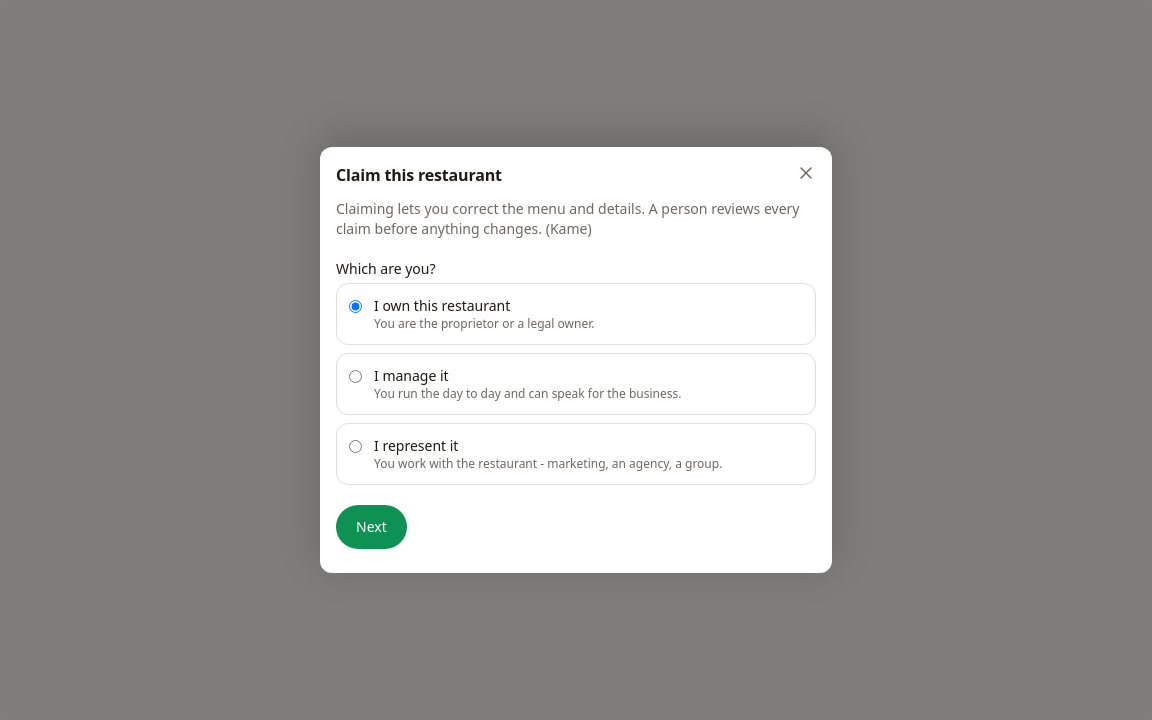
Scenario: what it asks for › asks for nothing the method does not collect
Expected: the text "Which are you?" is shown, [336,259,436,279]
Click the button "Next".
click(371, 527)  # box [336,505,407,549]
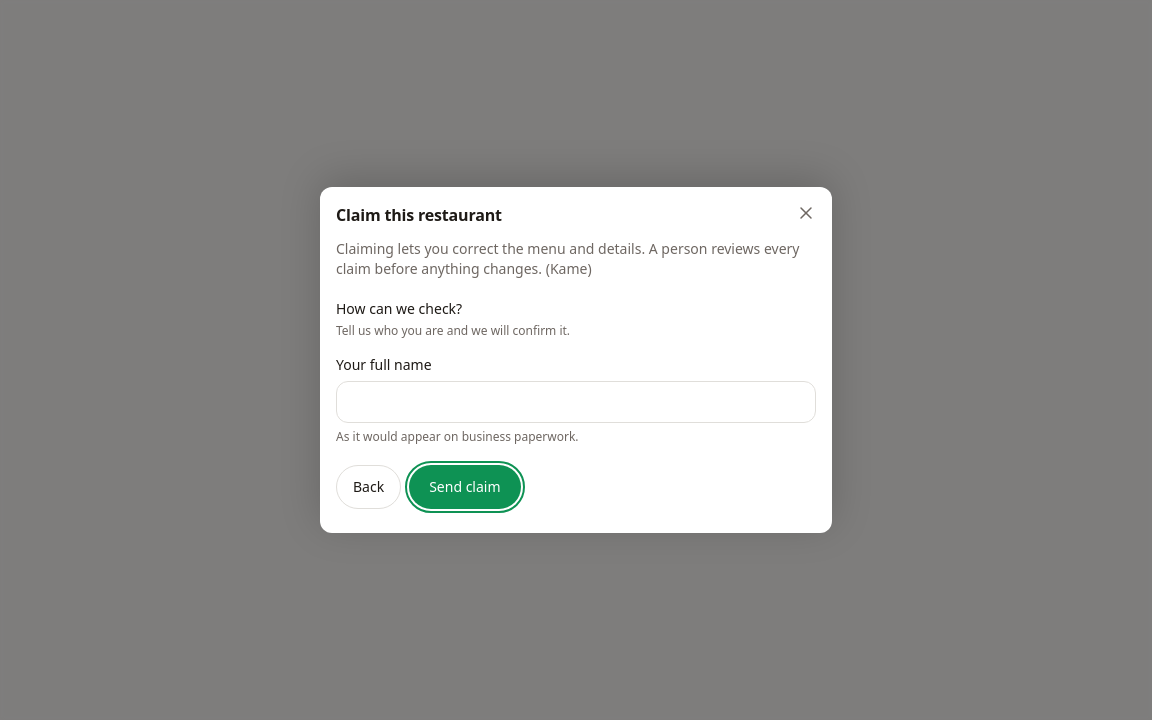
Now the field labelled "Your full name" is shown, box [336,381,816,423]
